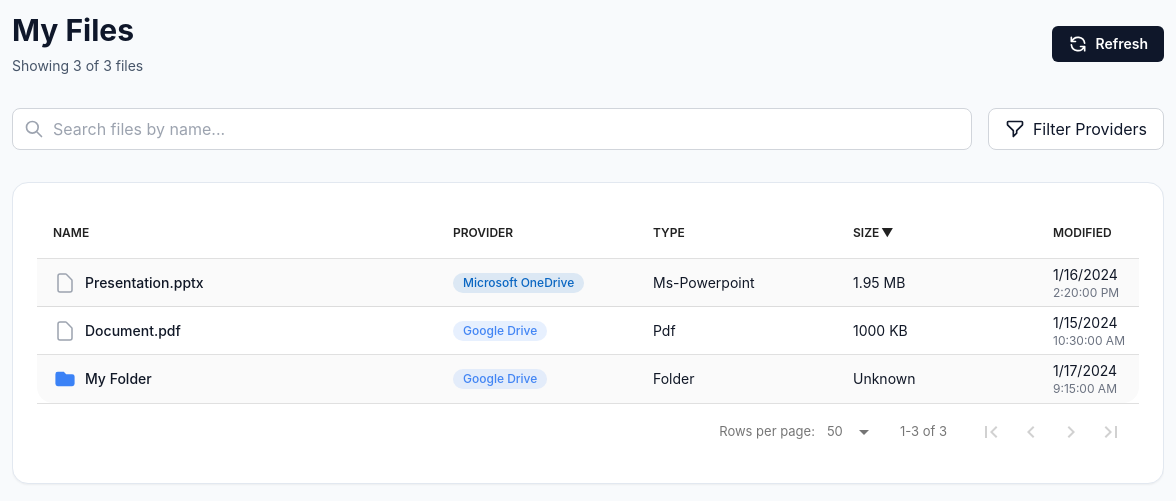
Test case: FilesPage › can clear search term
The width and height of the screenshot is (1176, 501).
Expected: the text "Document.pdf" is shown, [85, 320, 181, 340]
Type "Document" into the field with placeholder "Search files by name..." at (492, 129), box [12, 108, 972, 150]
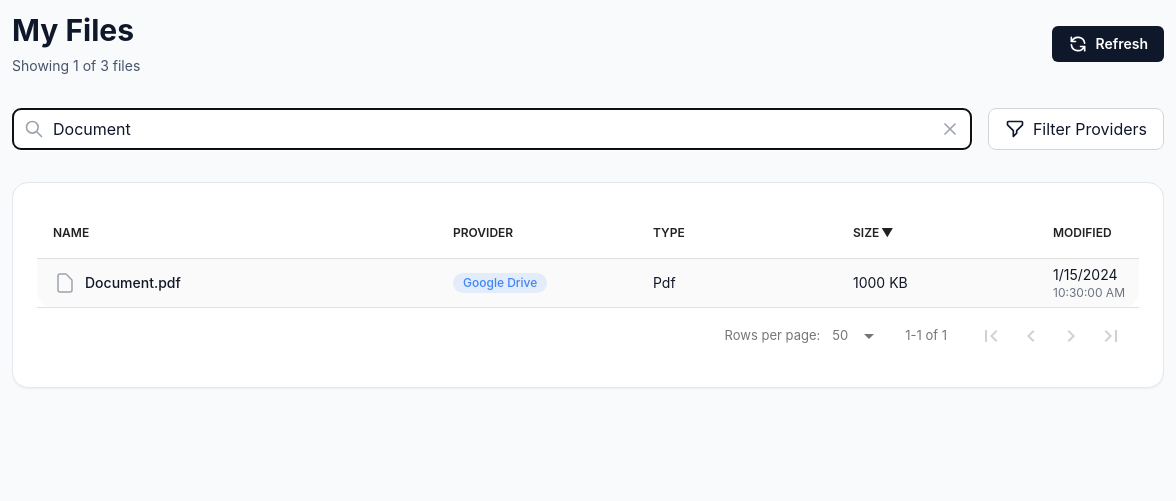
Now the text "Presentation.pptx" is gone
Note: Find and click clear button
Click the 2nd button at (956, 129), box [940, 108, 972, 150]
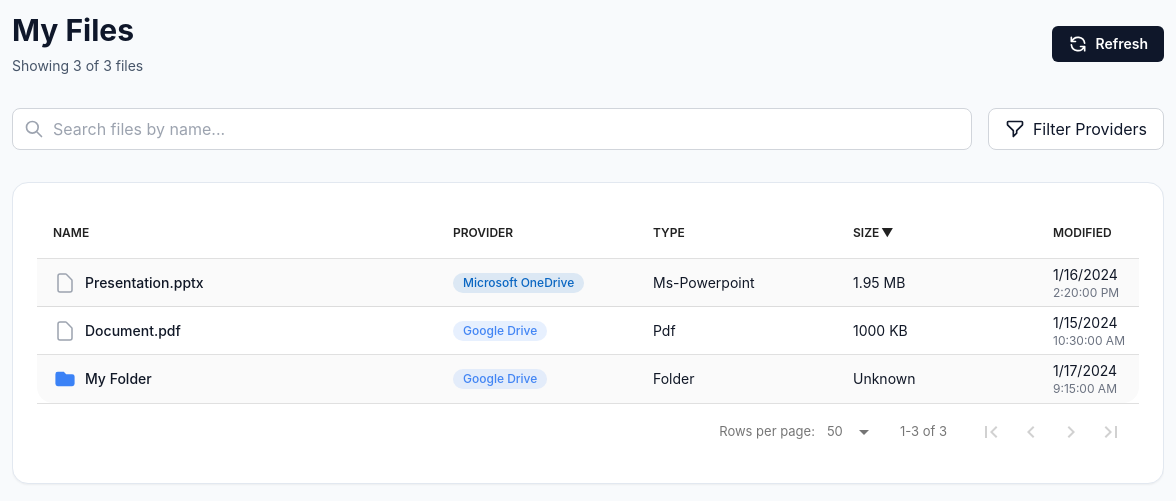
Now the text "Presentation.pptx" is shown, box [85, 272, 204, 292]
